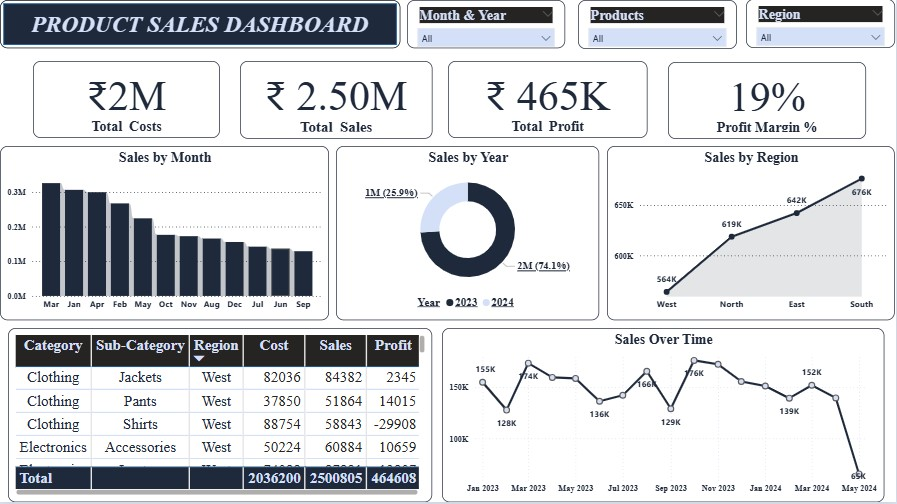

The page's visual inventory and layout, read from the dashboard file:
{"tool":"powerbi","page":{"name":"Page 1","canvas":[1280,720],"ordinal":0},"visuals":[{"type":"columnChart","title":"Sales by Month ","fields":{"Y":["Sum(Sales_Dataset.Sales)"],"Category":["Data_Table.Month Name"]},"box":[0,211.1,469.8,249.2],"z":0},{"type":"shape","box":[0,2.9,571.6,69.1],"z":1000},{"type":"slicer","fields":{"Values":["Data_Table.Month Name","Data_Table.Year"]},"box":[581.2,2.6,226.5,69.4],"z":2000},{"type":"card","fields":{"Values":["Sales_Dataset.Total_Sales"]},"box":[342.7,89.6,274.7,111.3],"z":3000},{"type":"slicer","fields":{"Values":["Sales_Dataset.Sub-Category","Sales_Dataset.Category"]},"box":[825.4,3,226.9,70.1],"z":4000},{"type":"slicer","fields":{"Values":["Sales_Dataset.Region"]},"box":[1065.7,1.5,213.4,70.1],"z":5000},{"type":"card","fields":{"Values":["Sales_Dataset.Total_Profit"]},"box":[640.5,89.6,284.8,109.9],"z":6000},{"type":"card","fields":{"Values":["Sales_Dataset.Total_Cost"]},"box":[47.7,89.6,267.5,109.9],"z":7000},{"type":"card","fields":{"Values":["Sales_Dataset.Profit Margin %"]},"box":[954.2,91.1,283.4,109.9],"z":8000},{"type":"donutChart","title":"Sales by Year ","fields":{"Y":["Sum(Sales_Dataset.Sales)"],"Category":["Data_Table.Year"]},"box":[479.4,211.1,376.2,249.2],"z":9000},{"type":"areaChart","title":"Sales by Region ","fields":{"Category":["Sales_Dataset.Region"],"Y":["Sum(Sales_Dataset.Sales)"]},"box":[866.7,211.1,411.1,249.2],"z":10000},{"type":"tableEx","title":"Sales by Month ","fields":{"Values":["Sales_Dataset.Category","Sales_Dataset.Sub-Category","Sales_Dataset.Region","Sum(Sales_Dataset.Cost)","Sum(Sales_Dataset.Sales)","Sum(Sales_Dataset.Profit)"]},"box":[11.1,471.4,606.3,249.2],"z":11000},{"type":"lineChart","title":"Sales Over Time","fields":{"Y":["Sum(Sales_Dataset.Sales)"],"Category":["Data_Table.Date.Variation.Date Hierarchy.Year","Data_Table.Date.Variation.Date Hierarchy.Quarter","Data_Table.Date.Variation.Date Hierarchy.Month"]},"box":[631.7,471.4,631.7,249.2],"z":12000}]}

Visuals, with their boxes in screenshot pixels (x1, y1, x2, y2), scaled from the page's 1280x720 canvas onto the 897x504 screenshot:
"Sales by Month " columnChart: <box>0,148,329,322</box>
shape: <box>0,2,401,50</box>
slicer - Data_Table.Month Name x Data_Table.Year: <box>407,2,566,50</box>
card - Sales_Dataset.Total_Sales: <box>240,63,433,141</box>
slicer - Sales_Dataset.Sub-Category x Sales_Dataset.Category: <box>578,2,737,51</box>
slicer - Sales_Dataset.Region: <box>747,1,896,50</box>
card - Sales_Dataset.Total_Profit: <box>449,63,648,140</box>
card - Sales_Dataset.Total_Cost: <box>33,63,221,140</box>
card - Sales_Dataset.Profit Margin %: <box>669,64,867,141</box>
"Sales by Year " donutChart: <box>336,148,600,322</box>
"Sales by Region " areaChart: <box>607,148,895,322</box>
"Sales by Month " tableEx: <box>8,330,433,503</box>
"Sales Over Time" lineChart: <box>443,330,885,503</box>
